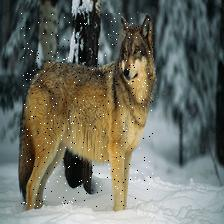WOLF: (20, 14, 152, 208)
